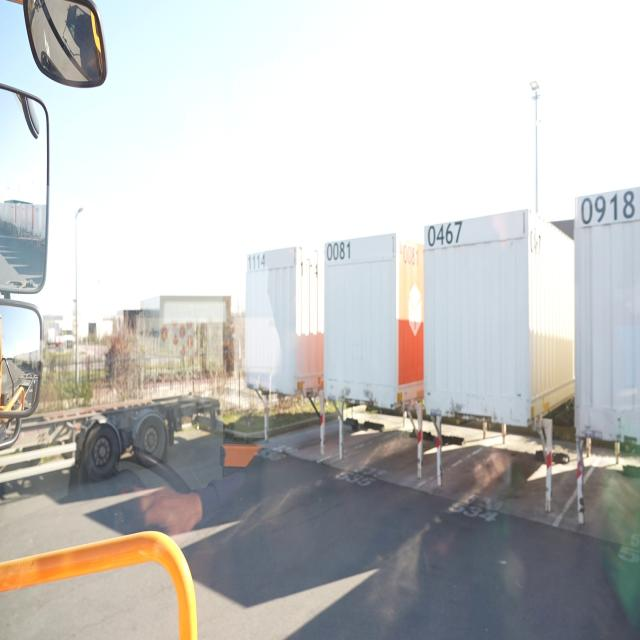Code: (580, 190, 638, 230), (426, 218, 464, 250), (323, 236, 353, 264), (244, 252, 272, 274)
